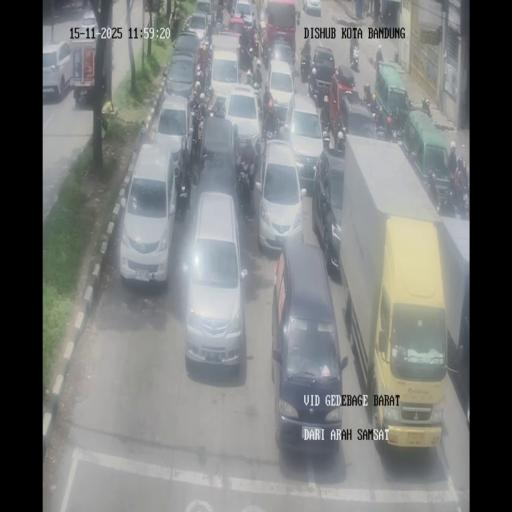3: (337, 141, 461, 447), (402, 111, 450, 207), (70, 15, 110, 104), (264, 0, 297, 65)
car: (271, 240, 343, 452), (183, 192, 248, 371), (119, 144, 178, 286), (316, 149, 346, 276), (283, 93, 324, 183), (153, 93, 192, 178), (222, 82, 262, 164), (338, 92, 378, 150), (265, 58, 296, 125), (209, 32, 242, 94), (164, 52, 199, 106), (43, 40, 74, 100), (310, 46, 338, 102), (186, 11, 210, 44), (233, 0, 254, 31), (81, 9, 97, 31), (303, 0, 321, 16)
truck: (189, 109, 207, 173), (236, 163, 254, 213), (194, 46, 211, 94), (436, 177, 456, 215), (238, 32, 256, 73), (201, 88, 217, 125), (373, 114, 391, 141), (456, 188, 470, 219), (259, 26, 269, 66), (300, 50, 311, 82), (208, 8, 220, 35), (350, 44, 360, 70), (322, 124, 332, 150), (336, 130, 346, 154), (213, 101, 227, 118), (252, 25, 259, 53), (421, 104, 433, 120), (375, 54, 384, 74), (390, 125, 400, 143), (363, 83, 371, 104), (246, 69, 254, 89), (378, 2, 384, 23), (226, 0, 234, 15), (217, 0, 226, 12), (296, 8, 301, 25)
